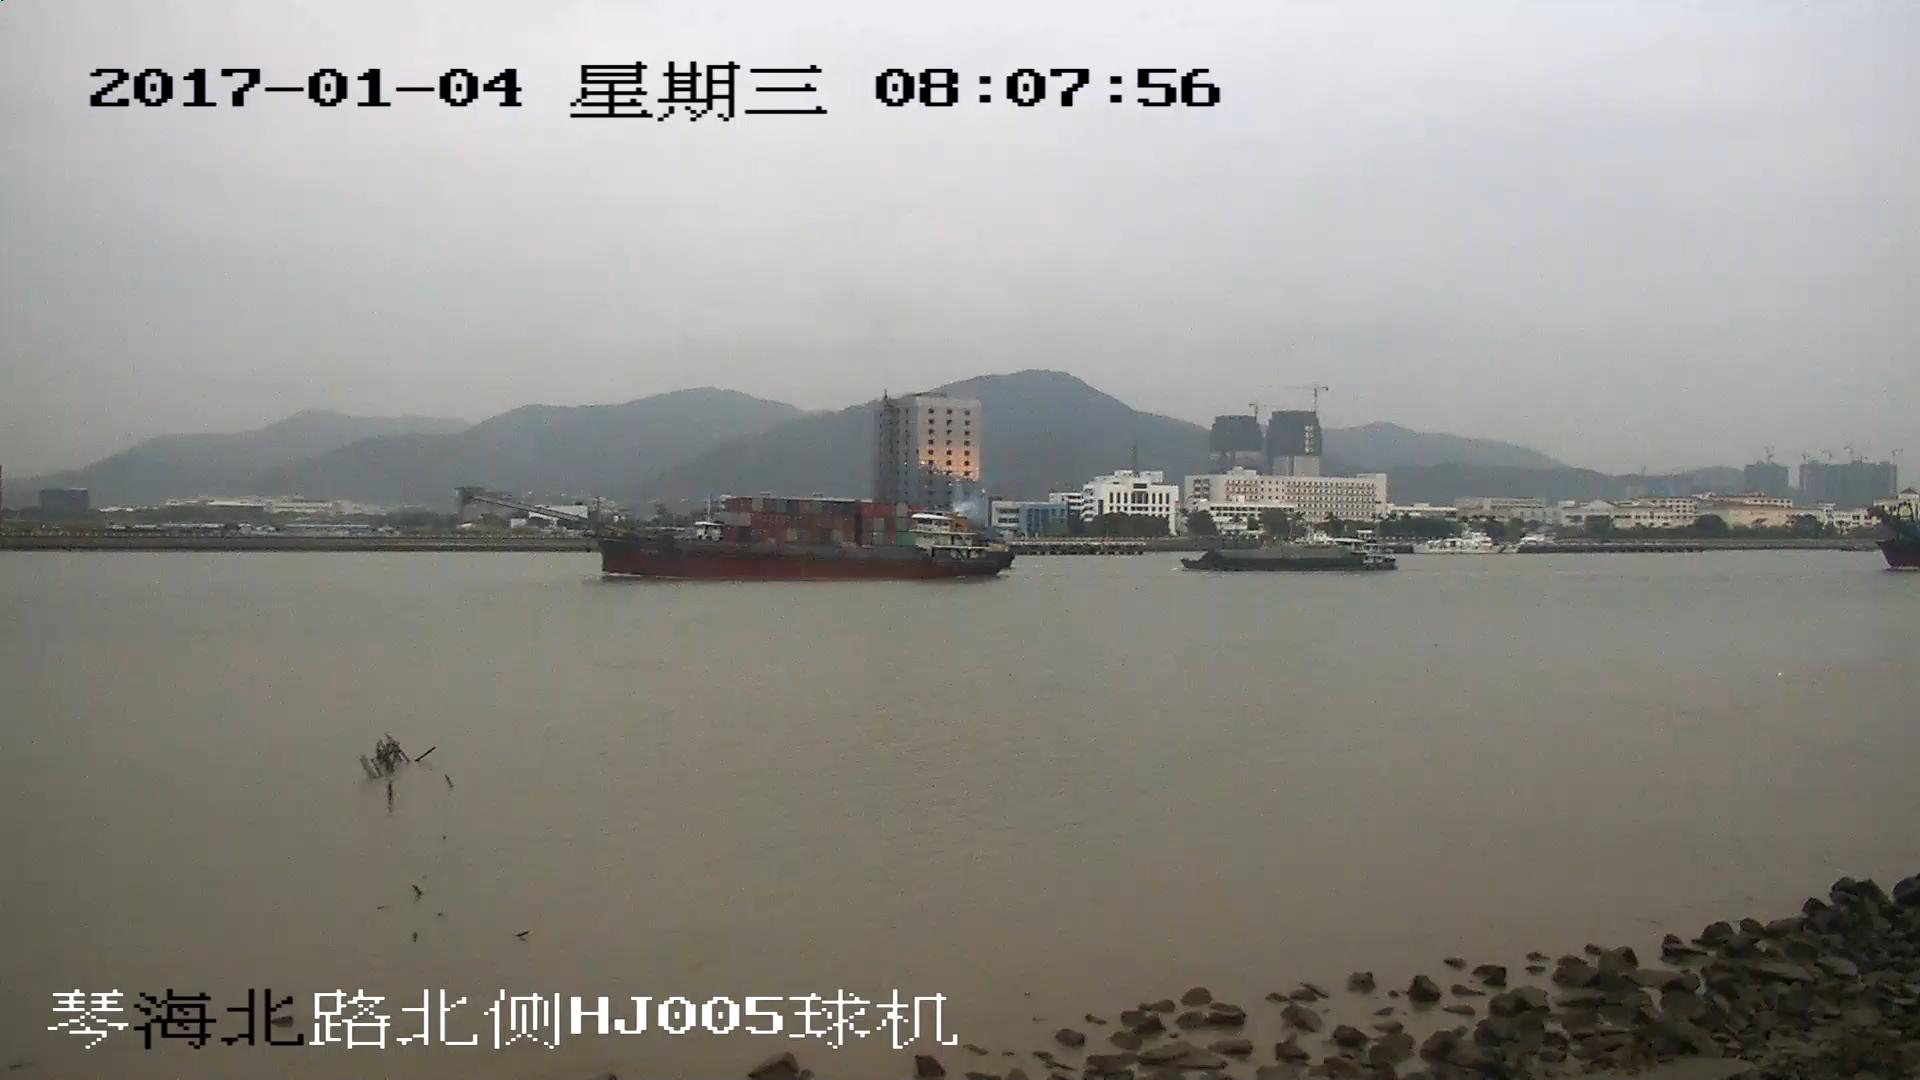bulk cargo carrier: (453, 529, 989, 575)
container ship: (717, 494, 914, 526)
general cargo ship: (1187, 547, 1395, 568)
